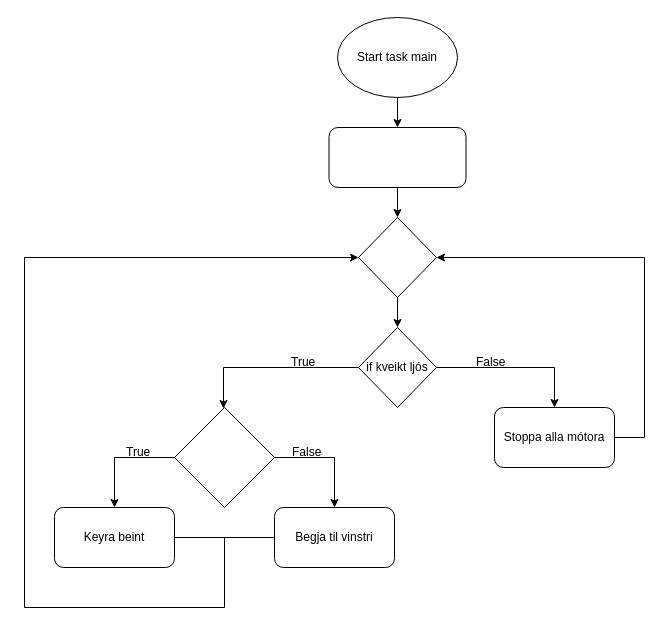
This 670x633 diagram has some shape labels left out. The shapes that lost their labels are listed below. From the top down, each one's centre as x and y in pixels, then its label:
point 397,157: Start new task(emergency_stop)
point 397,257: while true
point 224,457: if robot sér ekkert fyrir framan sig
